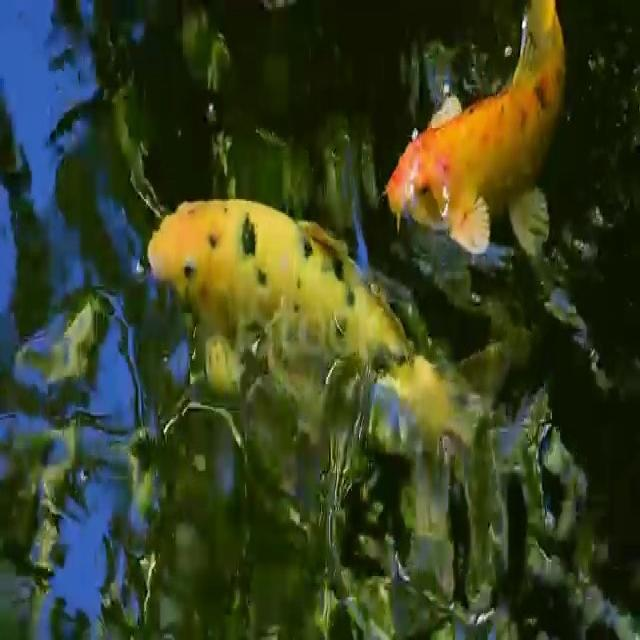fish: (137, 196, 478, 480), (382, 0, 573, 272)
